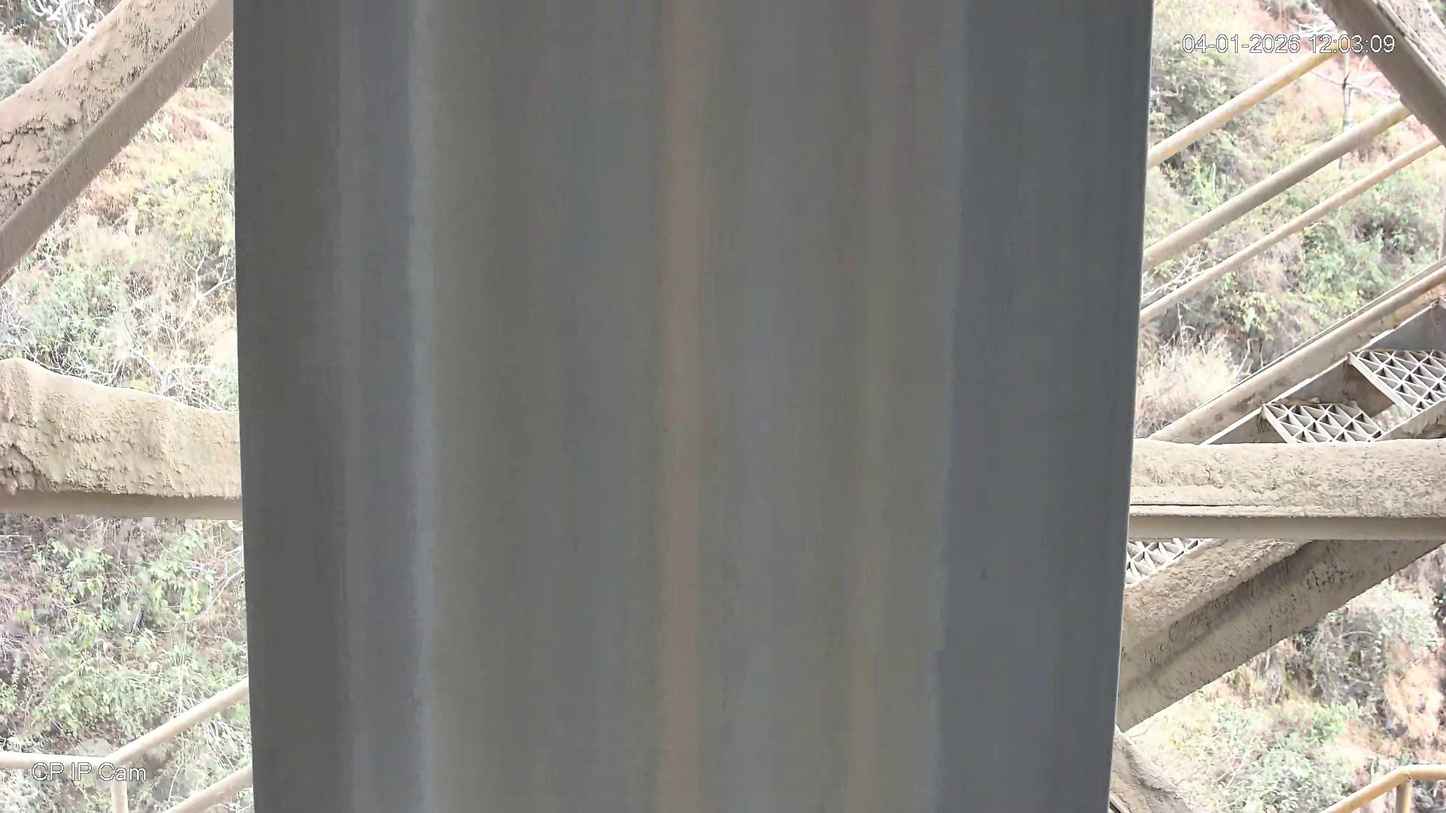belt_roi: (233, 0, 1154, 813)
